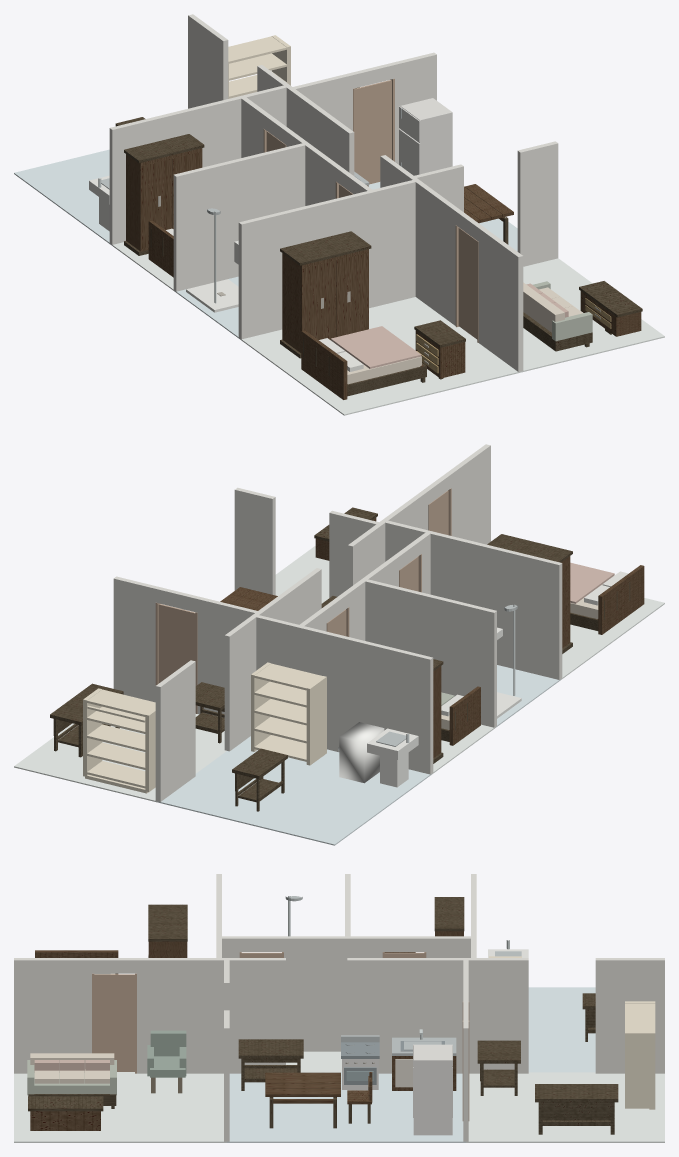
3 renders of one model, top to bottom at view 1: azimuth 30°, elevation 25°; view 2: azimuth 150°, elevation 25°; view 3: azimuth 270°, elevation 25°, orthographic.
Visible parts, largest first — view 1: H36_WALL_08, H36_WALL_12, H36_FLOOR_03_QUARTO_CASAL, H36_WALL_13, H36_WALL_05, H36_WALL_04, H36_WALL_00, H36_FLOOR_00_SALA_/_ENTRADA, H36_FLOOR_07_LAVANDERIA, H36_WALL_06, H36_DOOR_00_LEAF, H36_WALL_07 (+35 smaller); view 2: H36_WALL_13, H36_WALL_08, H36_FLOOR_07_LAVANDERIA, H36_WALL_12, H36_WALL_06, H36_WALL_02, H36_WALL_07, H36_WALL_00, H36_FLOOR_02_SALA_DE_TRABALHO, H36_WALL_04, H36_WALL_03, H36_WALL_05 (+36 smaller); view 3: H36_WALL_06, H36_WALL_05, H36_FLOOR_01_COZINHA_/_REFEICOES, H36_FLOOR_00_SALA_/_ENTRADA, H36_FLOOR_02_SALA_DE_TRABALHO, H36_WALL_04, H36_WALL_10, H36_WALL_07, H36_FLOOR_07_LAVANDERIA, H36_FURN_05_fridge__05__gabinete, H36_DOOR_01_LEAF, H36_FURN_10_shelf__05__H04_FURN_11_Z2_SHELF_ESQ (+35 smaller).
Boxes of the visible parts, <box> form: H36_WALL_08: <box>238,180,415,339</box>; H36_WALL_12: <box>173,143,305,291</box>; H36_FLOOR_03_QUARTO_CASAL: <box>240,297,520,415</box>; H36_WALL_13: <box>109,85,288,244</box>; H36_WALL_05: <box>380,155,460,325</box>; H36_WALL_04: <box>478,226,523,371</box>; H36_WALL_00: <box>517,141,558,266</box>; H36_FLOOR_00_SALA_/_ENTRADA: <box>521,258,664,372</box>; H36_FLOOR_07_LAVANDERIA: <box>14,149,110,244</box>; H36_WALL_06: <box>257,65,354,175</box>; H36_DOOR_00_LEAF: <box>355,80,391,184</box>; H36_WALL_07: <box>188,14,228,108</box>; H36_WALL_13: <box>256,615,433,774</box>; H36_WALL_08: <box>385,520,562,679</box>; H36_FLOOR_07_LAVANDERIA: <box>158,736,431,845</box>; H36_WALL_12: <box>365,579,496,727</box>; H36_WALL_06: <box>224,568,321,751</box>; H36_WALL_02: <box>113,576,159,702</box>; H36_WALL_07: <box>155,660,195,801</box>; H36_WALL_00: <box>234,487,275,595</box>; H36_FLOOR_02_SALA_DE_TRABALHO: <box>14,714,226,802</box>; H36_WALL_04: <box>446,444,490,544</box>; H36_WALL_03: <box>196,596,259,717</box>; H36_WALL_05: <box>348,489,428,588</box>; H36_WALL_06: <box>347,958,528,1073</box>; H36_WALL_05: <box>136,958,285,1073</box>; H36_FLOOR_01_COZINHA_/_REFEICOES: <box>227,1072,465,1142</box>; H36_FLOOR_00_SALA_/_ENTRADA: <box>14,1072,226,1142</box>; H36_FLOOR_02_SALA_DE_TRABALHO: <box>466,1072,664,1142</box>; H36_WALL_04: <box>14,958,93,1073</box>; H36_WALL_10: <box>283,936,383,1051</box>; H36_WALL_07: <box>595,958,664,1073</box>; H36_FLOOR_07_LAVANDERIA: <box>528,987,595,1072</box>; H36_FURN_05_fridge__05__gabinete: <box>413,1044,452,1135</box>; H36_DOOR_01_LEAF: <box>94,974,134,1071</box>; H36_FURN_10_shelf__05__H04_FURN_11_Z2_SHELF_ESQ: <box>625,1031,655,1108</box>.
Bounding box in the file's own units: 7.1 × 2.46 × 12.66.
Materials: 22 (3 with a texture image).
